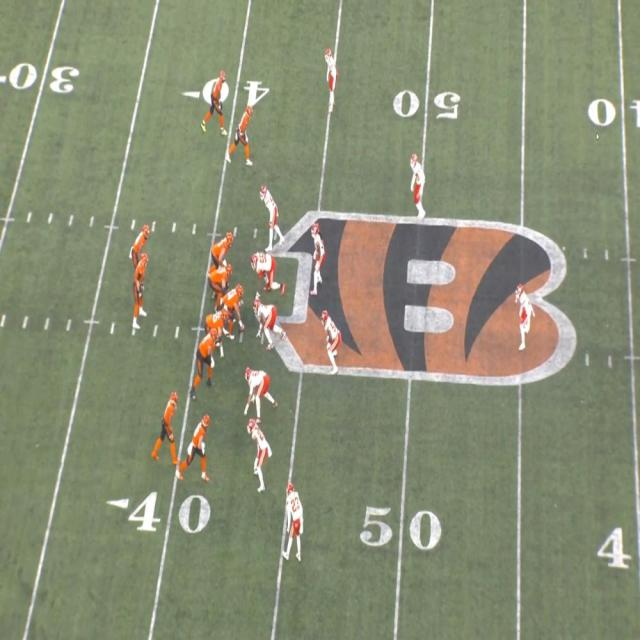center: (225, 286, 249, 325)
db: (246, 420, 269, 489), (283, 483, 303, 555), (515, 284, 535, 353), (408, 151, 426, 213), (321, 48, 338, 98)
lb: (309, 223, 327, 290), (320, 310, 342, 363)
qb: (134, 258, 148, 324)
skill: (202, 74, 232, 130), (159, 388, 181, 454), (189, 412, 212, 473), (232, 112, 254, 166), (132, 225, 150, 255)
